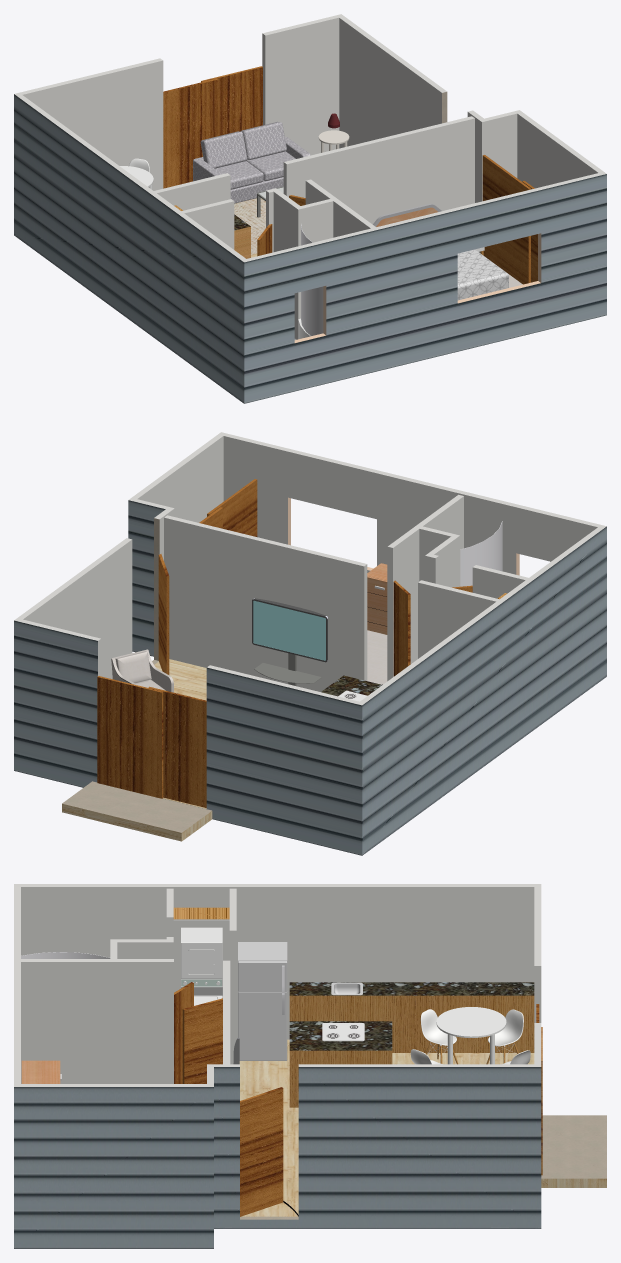
File: home-floorplan.glb
The picture shows the model from 3 angles, top to bottom: view 1: azimuth 30°, elevation 25°; view 2: azimuth 150°, elevation 25°; view 3: azimuth 270°, elevation 25°; orthographic projection. The views are drawn at different scales.
Size of the model in its own units: 6.96 by 2.59 by 8.6.
Materials: 20 (20 with a texture image).
